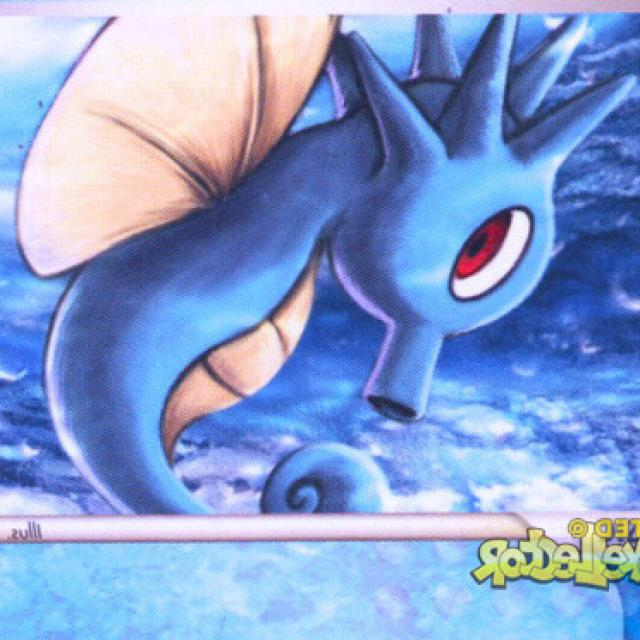Horsea: (46, 15, 566, 515)
